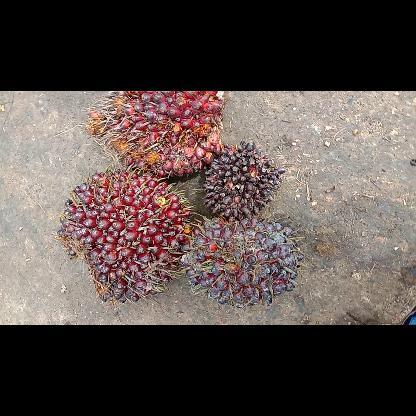Kurang masak: (54, 167, 192, 302), (180, 212, 300, 308)
TBS abnormal: (200, 137, 286, 225)
TBS masak: (86, 90, 224, 182)
